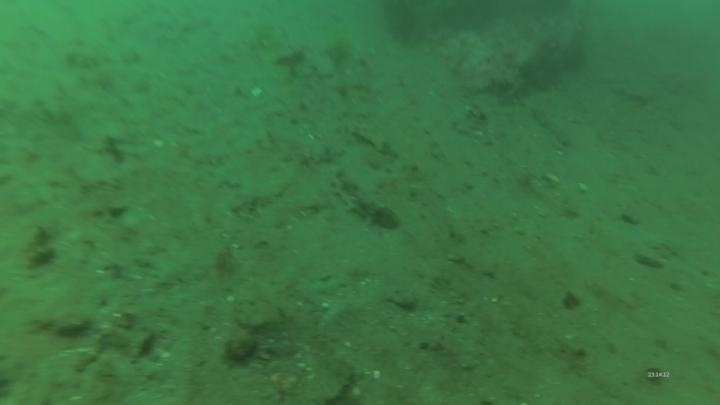holothurian: (329, 168, 403, 233)
